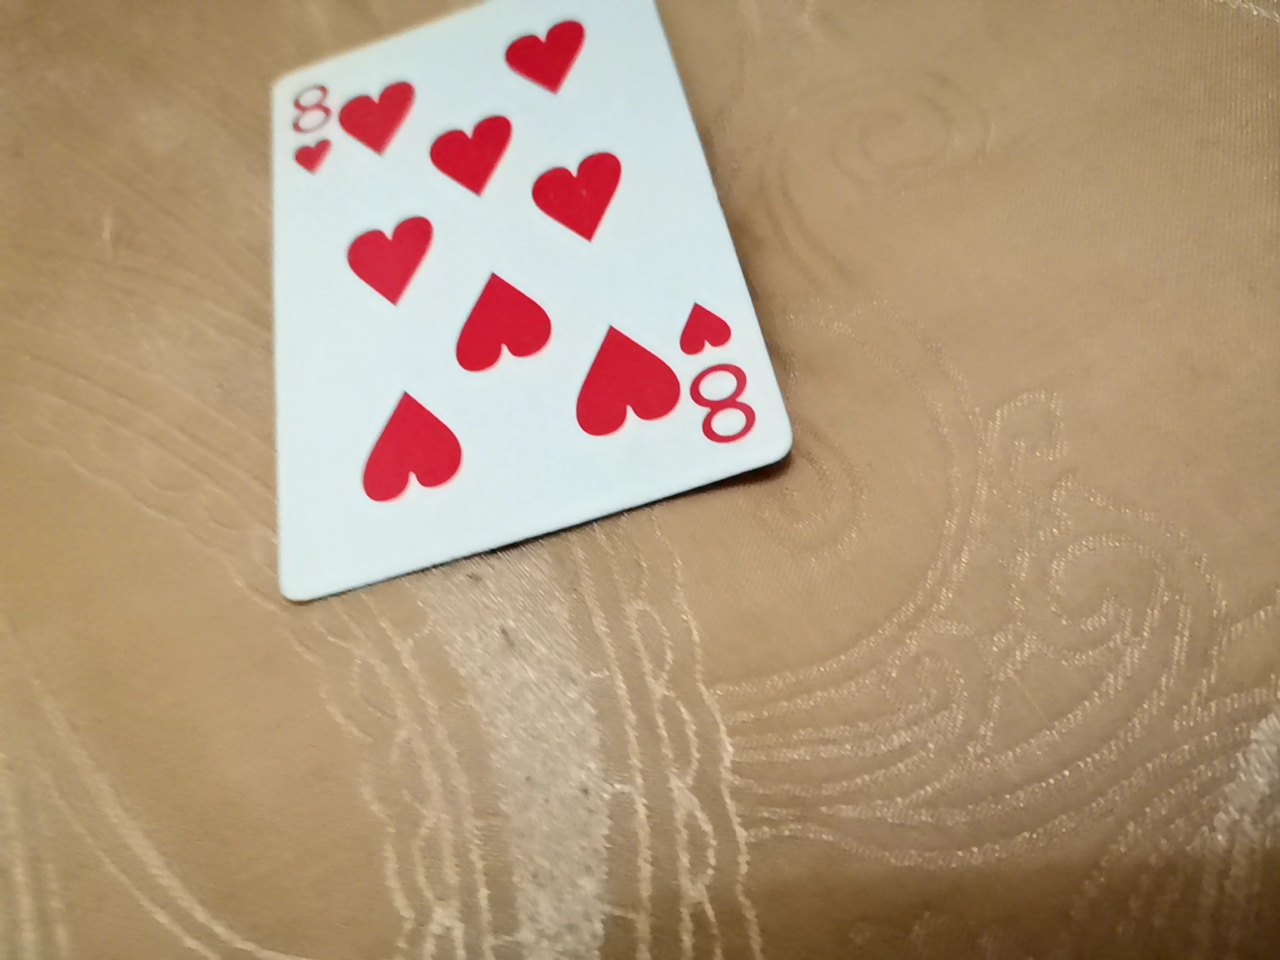hx 8: (312, 0, 821, 605)
